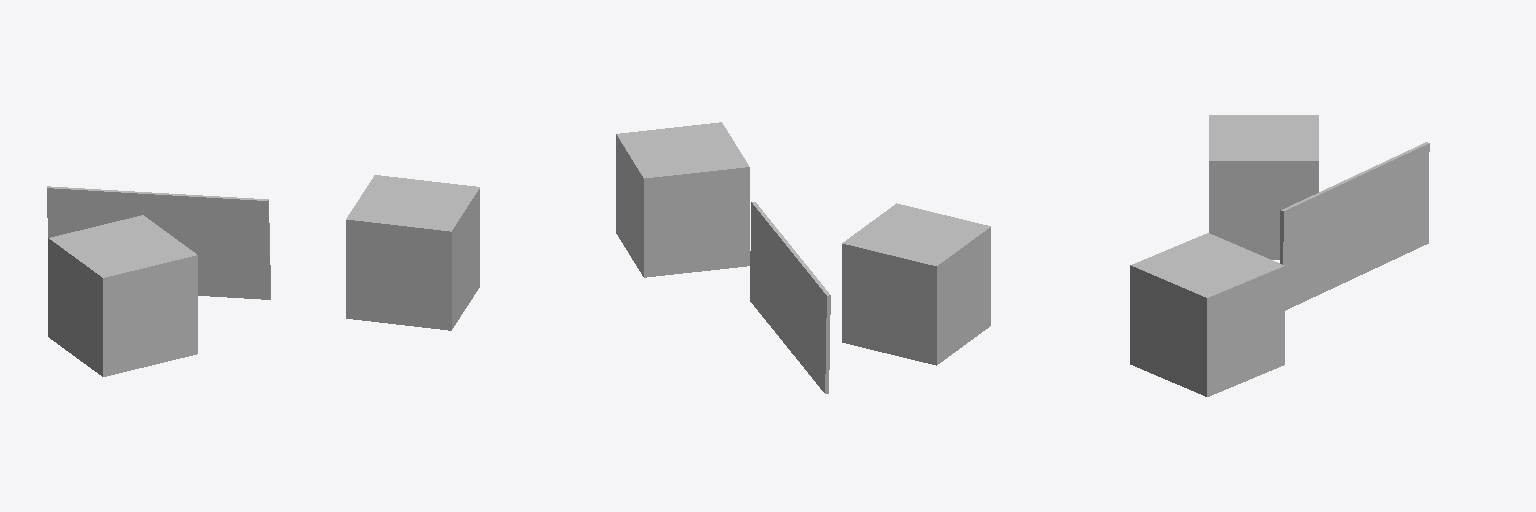
Rendered from WallTestobj.obj.
3 views of the same model, side by side, from view 1: azimuth 30°, elevation 25°; view 2: azimuth 150°, elevation 25°; view 3: azimuth 270°, elevation 25° (orthographic).
Parts seen in each view (by area): view 1: Cube.001_Cube.019, Cube_Cube.018, Cube.002_Cube.020; view 2: Cube.001_Cube.019, Cube_Cube.018, Cube.002_Cube.020; view 3: Cube_Cube.018, Cube.002_Cube.020, Cube.001_Cube.019.
Part boxes in pixels (x1,y1,x2,y2): Cube.001_Cube.019: (48, 215, 197, 376); Cube_Cube.018: (346, 175, 479, 330); Cube.002_Cube.020: (47, 186, 270, 299); Cube.001_Cube.019: (842, 203, 990, 365); Cube_Cube.018: (616, 122, 749, 277); Cube.002_Cube.020: (750, 202, 830, 393); Cube_Cube.018: (1130, 233, 1284, 396); Cube.002_Cube.020: (1280, 142, 1429, 310); Cube.001_Cube.019: (1209, 115, 1318, 259).
Bounding box in the file's own units: 7.94 × 2.08 × 5.46.